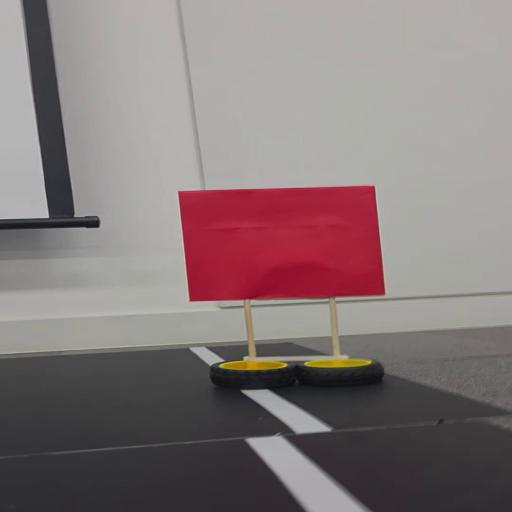Sign_A: (168, 183, 396, 395)
